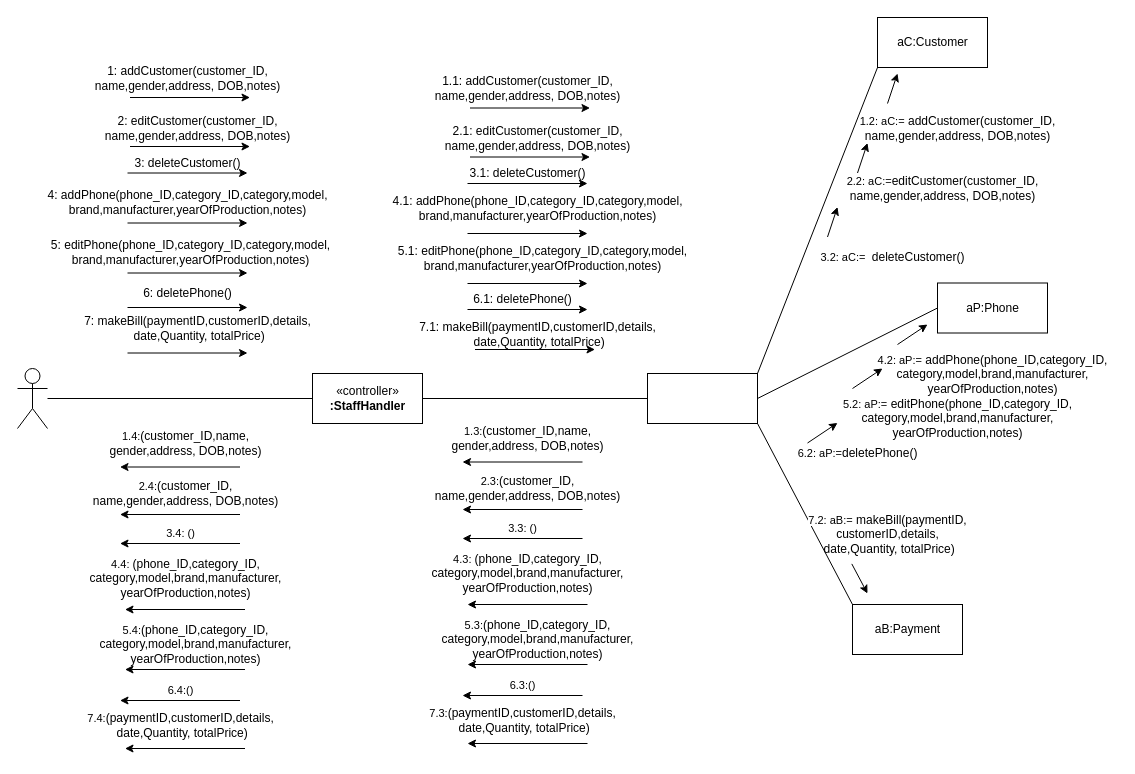
This 1135x774 diagram has some shape labels left out. Each missing label, with the centre of its shape:
"Actor" goes at (32,398).
"aSt:Staff" goes at (702,398).
